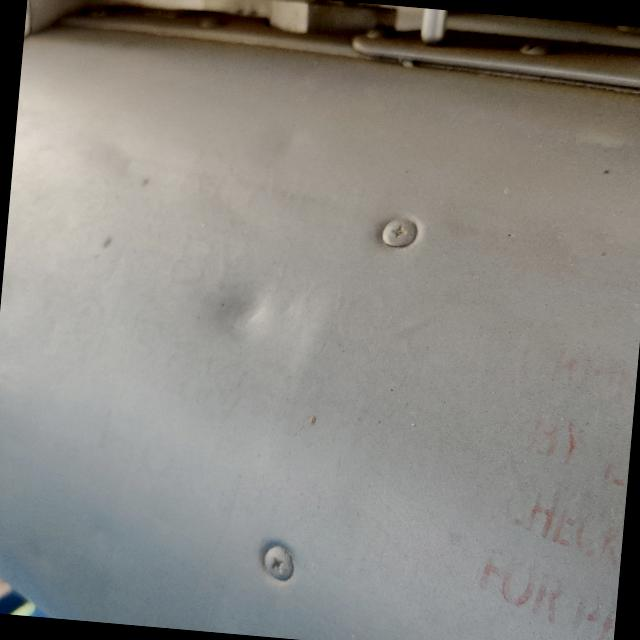dent: (188, 264, 290, 370)
